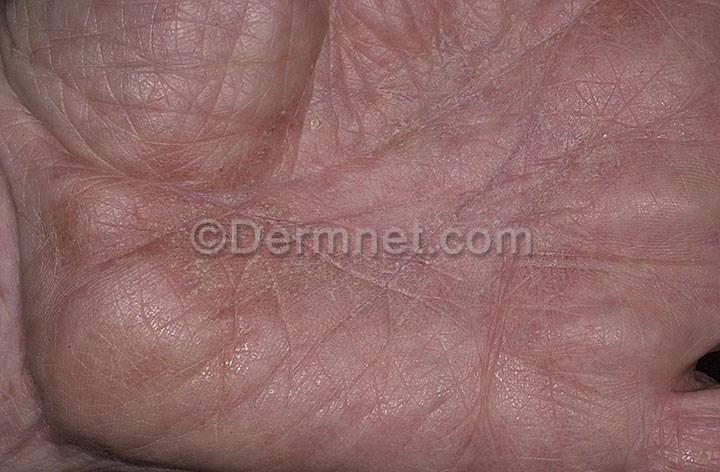Eczema: (158, 282, 443, 468), (316, 41, 538, 241), (5, 155, 152, 409), (547, 21, 704, 242), (436, 265, 619, 446), (161, 89, 310, 225), (621, 381, 720, 472)
